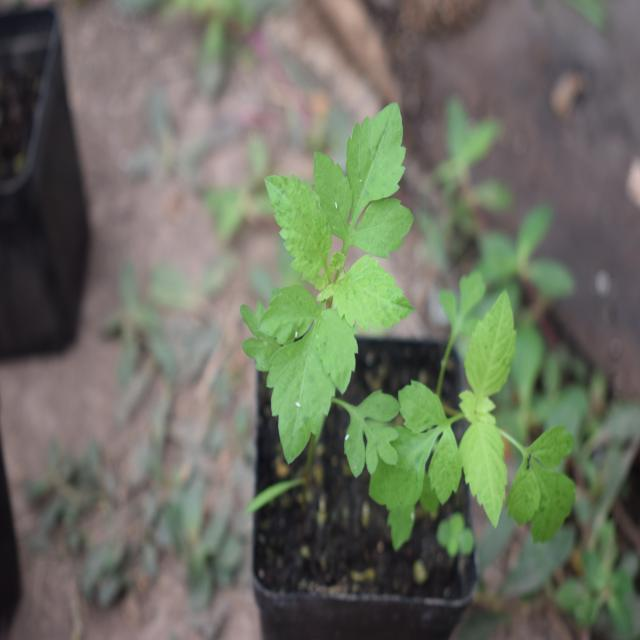Bidens pilosa: (238, 92, 416, 520), (402, 259, 608, 572)
